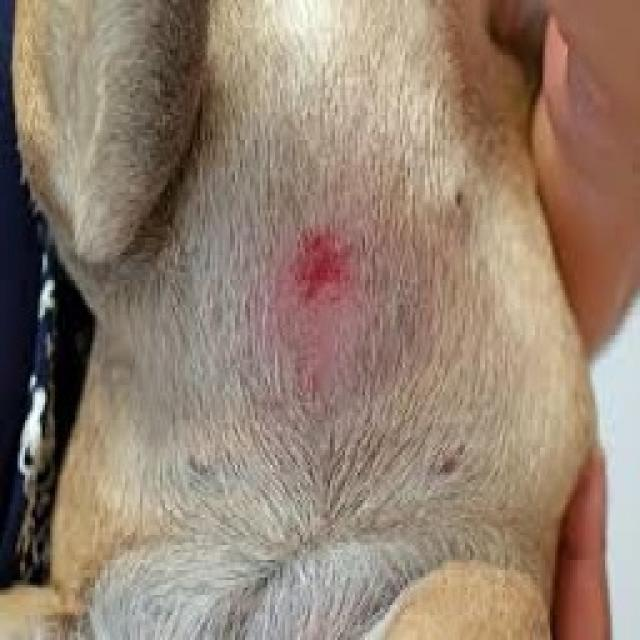hotspot: (298, 230, 351, 294)
